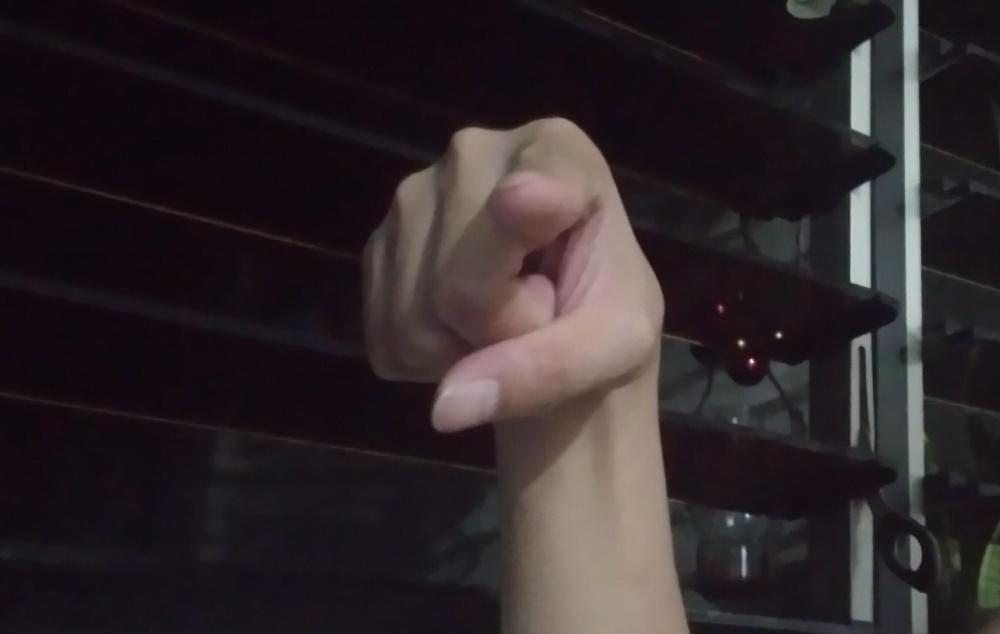z: (355, 114, 667, 434)
